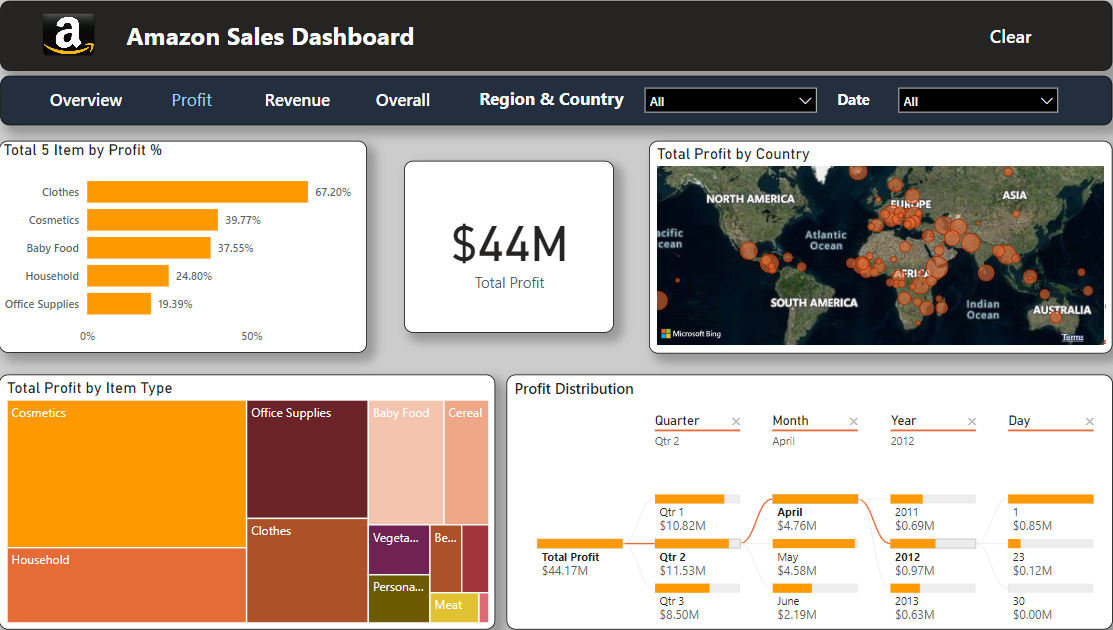

The dashboard page shown, as its layout file describes it:
{"tool":"powerbi","page":{"name":"Profit","canvas":[1280,720],"ordinal":1},"visuals":[{"type":"textbox","box":[27.9,173.9,403.7,233],"z":0},{"type":"textbox","box":[28.4,20.3,1220.6,77],"z":1000},{"type":"image","box":[70.2,29.7,68.9,55.4],"z":2000},{"type":"textbox","box":[155.3,35.1,341.6,50],"z":3000},{"type":"textbox","box":[28.4,102.6,1220.6,54],"z":4000},{"type":"pageNavigator","box":[70,107,456.9,42.5],"z":5000},{"type":"slicer","fields":{"Values":["Amazon Sales data.Country","Amazon Sales data.Region"]},"box":[726.4,105.3,209.3,48.6],"z":6000},{"type":"textbox","box":[542,109.8,183.9,37],"z":7000},{"type":"textbox","box":[942.4,112.1,81,35.1],"z":8000},{"type":"slicer","fields":{"Values":["Amazon Sales data.Order Date.Variation.Date Hierarchy.Year"]},"box":[1004.6,105.3,195.8,48.6],"z":9000},{"type":"clusteredBarChart","title":"Total 5 Item by Profit %","fields":{"Category":["Amazon Sales data.Item Type"],"Y":["Amazon Sales data.Profit%"]},"box":[27.9,173.9,403.7,233],"z":10000},{"type":"actionButton","title":"Clear 1","box":[1088,29.5,100.1,57.4],"z":11000},{"type":"card","fields":{"Values":["Amazon Sales data.Total_Profit"]},"box":[472.5,196.2,230,188.8],"z":12000},{"type":"map","fields":{"Category":["Amazon Sales data.Country"],"Size":["Amazon Sales data.Total_Profit"]},"box":[741,174.3,509.1,233.3],"z":13000},{"type":"treemap","fields":{"Group":["Amazon Sales data.Item Type"],"Values":["Amazon Sales data.Total_Profit"]},"box":[27.4,430.9,544.8,279.9],"z":14000},{"type":"decompositionTreeVisual","title":"Profit Distribution","fields":{"Analyze":["Amazon Sales data.Total_Profit"],"ExplainBy":["Amazon Sales data.Order Date.Variation.Date Hierarchy.Quarter","Amazon Sales data.Order Date.Variation.Date Hierarchy.Month","Amazon Sales data.Order Date.Variation.Date Hierarchy.Year","Amazon Sales data.Order Date.Variation.Date Hierarchy.Day"]},"box":[584.6,430.9,665.5,279.9],"z":15000}]}

Visuals, with their boxes in screenshot pixels (x1, y1, x2, y2), scaled from the page's 1280x720 canvas onto the 1113x630 screenshot:
textbox: box(24, 152, 375, 356)
textbox: box(25, 18, 1086, 85)
image: box(61, 26, 121, 74)
textbox: box(135, 31, 432, 74)
textbox: box(25, 90, 1086, 137)
pageNavigator: box(61, 94, 458, 131)
slicer - Amazon Sales data.Country x Amazon Sales data.Region: box(632, 92, 814, 135)
textbox: box(471, 96, 631, 128)
textbox: box(819, 98, 890, 129)
slicer - Amazon Sales data.Order Date.Variation.Date Hierarchy.Year: box(874, 92, 1044, 135)
"Total 5 Item by Profit %" clusteredBarChart: box(24, 152, 375, 356)
"Clear 1" actionButton: box(946, 26, 1033, 76)
card - Amazon Sales data.Total_Profit: box(411, 172, 611, 337)
map - Amazon Sales data.Country x Amazon Sales data.Total_Profit: box(644, 153, 1087, 357)
treemap - Amazon Sales data.Item Type x Amazon Sales data.Total_Profit: box(24, 377, 498, 622)
"Profit Distribution" decompositionTreeVisual: box(508, 377, 1087, 622)
